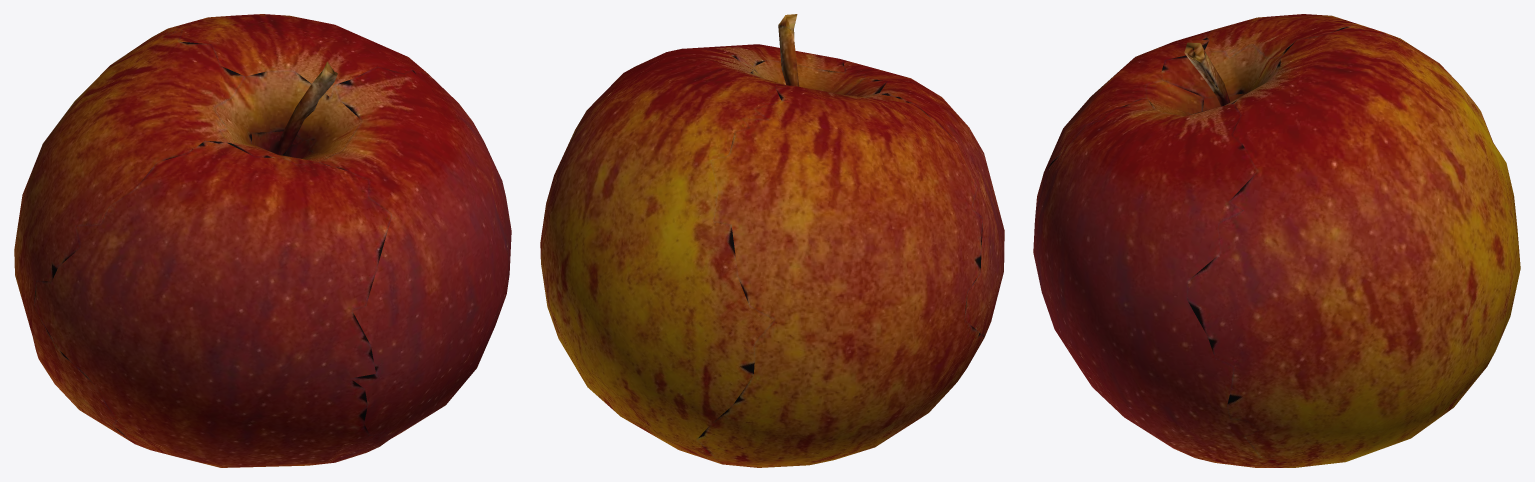
Rendered from apple-0-mid.glb.
3 views of the same model, side by side, from view 1: azimuth 30°, elevation 25°; view 2: azimuth 150°, elevation 25°; view 3: azimuth 270°, elevation 25° (orthographic). The views are drawn at different scales.
Visible parts, largest first — view 1: food_apple_01; view 2: food_apple_01; view 3: food_apple_01.
Part boxes in pixels (x1,y1,x2,y2): food_apple_01: (14, 14, 511, 467); food_apple_01: (540, 14, 1004, 467); food_apple_01: (1033, 14, 1520, 467).
Bounding box in the file's own units: 0.1143 × 0.1007 × 0.113.
1 material, 1 textured.
